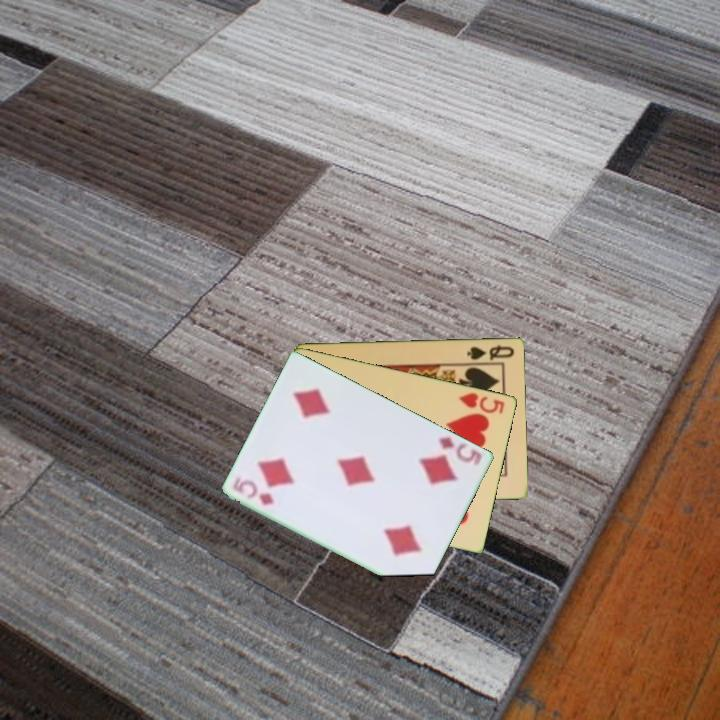5d: (435, 433, 486, 469), (238, 480, 277, 508)
5h: (455, 389, 507, 416)
Qs: (464, 341, 517, 363)
